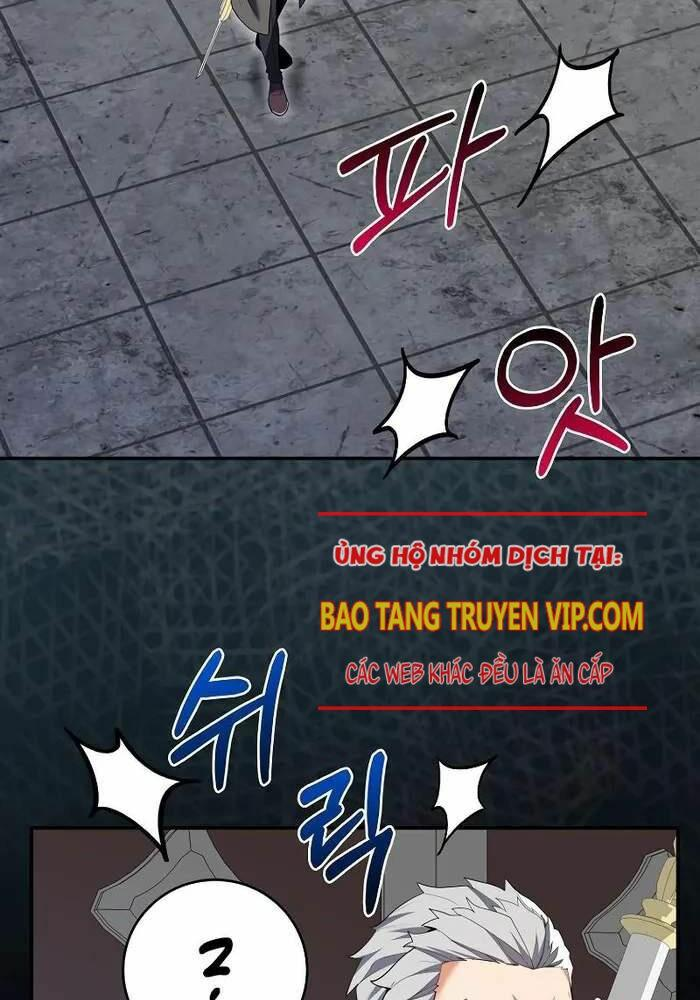quangcao: (319, 513, 649, 709)
